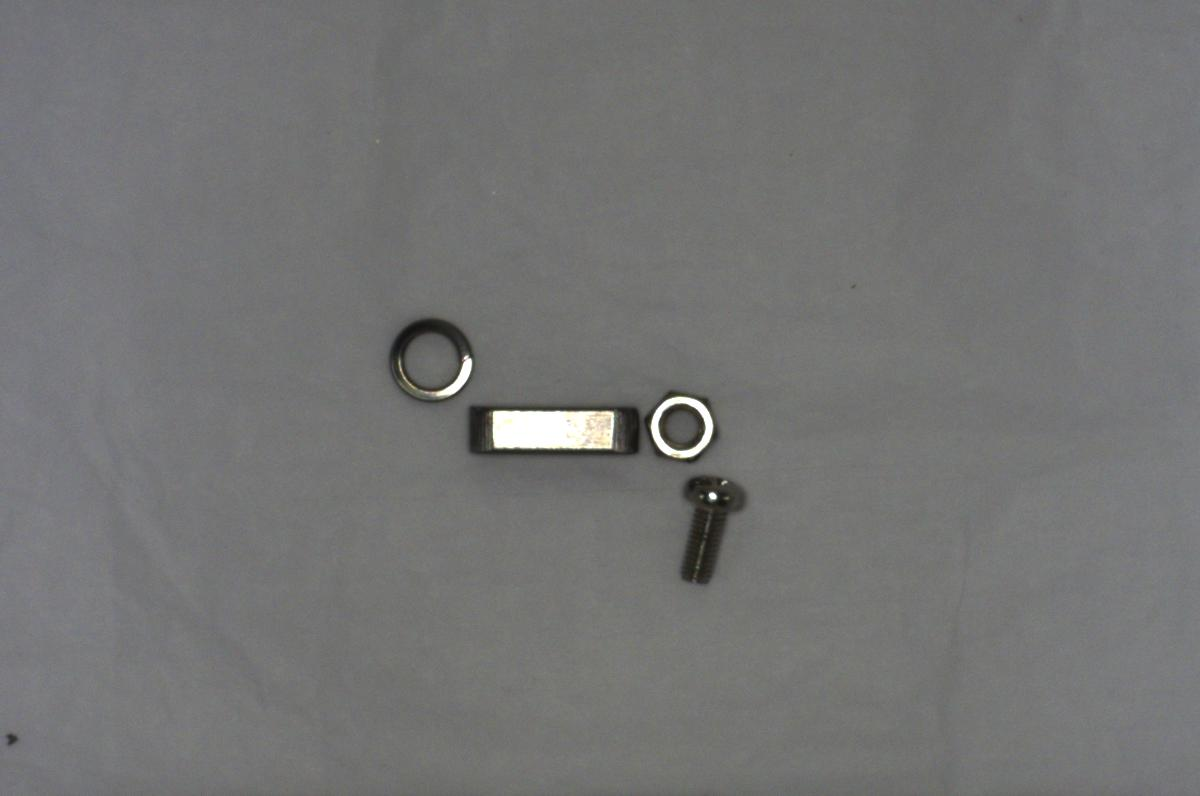Hexagon nut: (635, 383, 724, 465)
Keybar: (455, 396, 650, 466)
Round head screw: (658, 470, 757, 587)
Spring washer: (378, 307, 480, 406)
